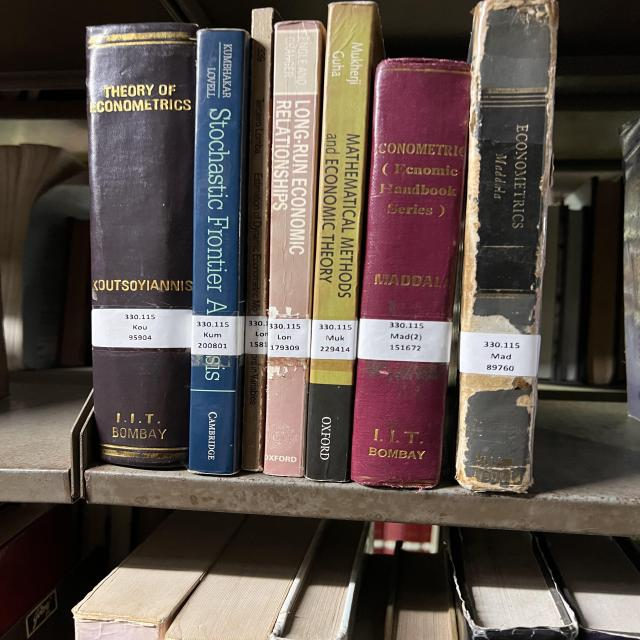Book: (352, 59, 470, 489), (457, 0, 558, 492), (87, 22, 197, 468), (305, 1, 383, 481), (263, 20, 325, 476), (188, 29, 248, 475), (242, 8, 278, 471)
Label: (358, 319, 452, 362), (92, 309, 192, 349), (460, 331, 540, 376), (192, 315, 245, 356), (310, 320, 358, 360), (268, 319, 312, 358), (245, 316, 268, 355)
